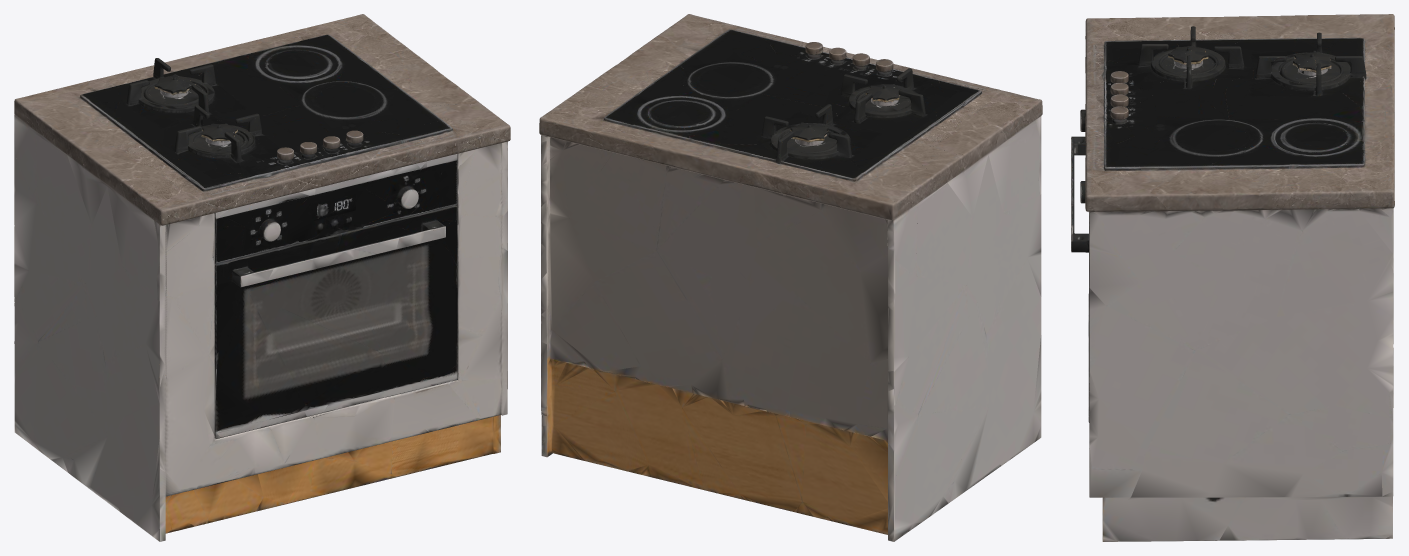
Rendered from kitchen-stove.glb.
3 views of the same model, side by side, from view 1: azimuth 30°, elevation 25°; view 2: azimuth 150°, elevation 25°; view 3: azimuth 270°, elevation 25° (orthographic). The views are drawn at different scales.
Visible parts, largest first — view 1: Mesh_0; view 2: Mesh_0; view 3: Mesh_0.
Boxes of the visible parts, x1,y1,x2,y2 form: Mesh_0: (14,14,510,541); Mesh_0: (539,14,1042,541); Mesh_0: (1071,14,1394,541).
Bounding box in the file's own units: 0.9224 × 0.9 × 0.7069.
Materials: 1 (1 with a texture image).
